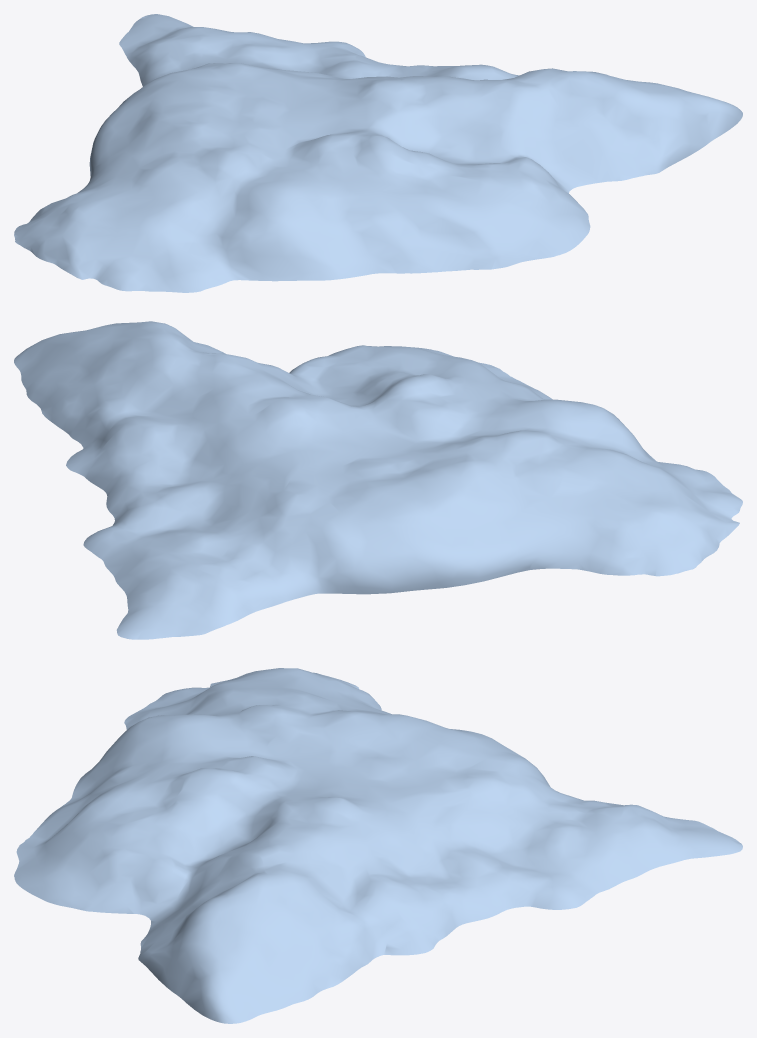
The model's file is IcePatchLarge_02_Bumpy.fbx.
The picture shows the model from 3 angles, top to bottom: view 1: azimuth 30°, elevation 25°; view 2: azimuth 150°, elevation 25°; view 3: azimuth 270°, elevation 25°; orthographic projection. The views are drawn at different scales.
Parts seen in each view (by area): view 1: IcePatchLarge_02_Bumpy.001; view 2: IcePatchLarge_02_Bumpy.001; view 3: IcePatchLarge_02_Bumpy.001.
Part boxes in pixels (bbox=[...]): IcePatchLarge_02_Bumpy.001: bbox=[14, 14, 742, 292]; IcePatchLarge_02_Bumpy.001: bbox=[14, 321, 742, 639]; IcePatchLarge_02_Bumpy.001: bbox=[14, 668, 742, 1023].
Bounding box in the file's own units: 5.14 × 0.4644 × 4.57.
